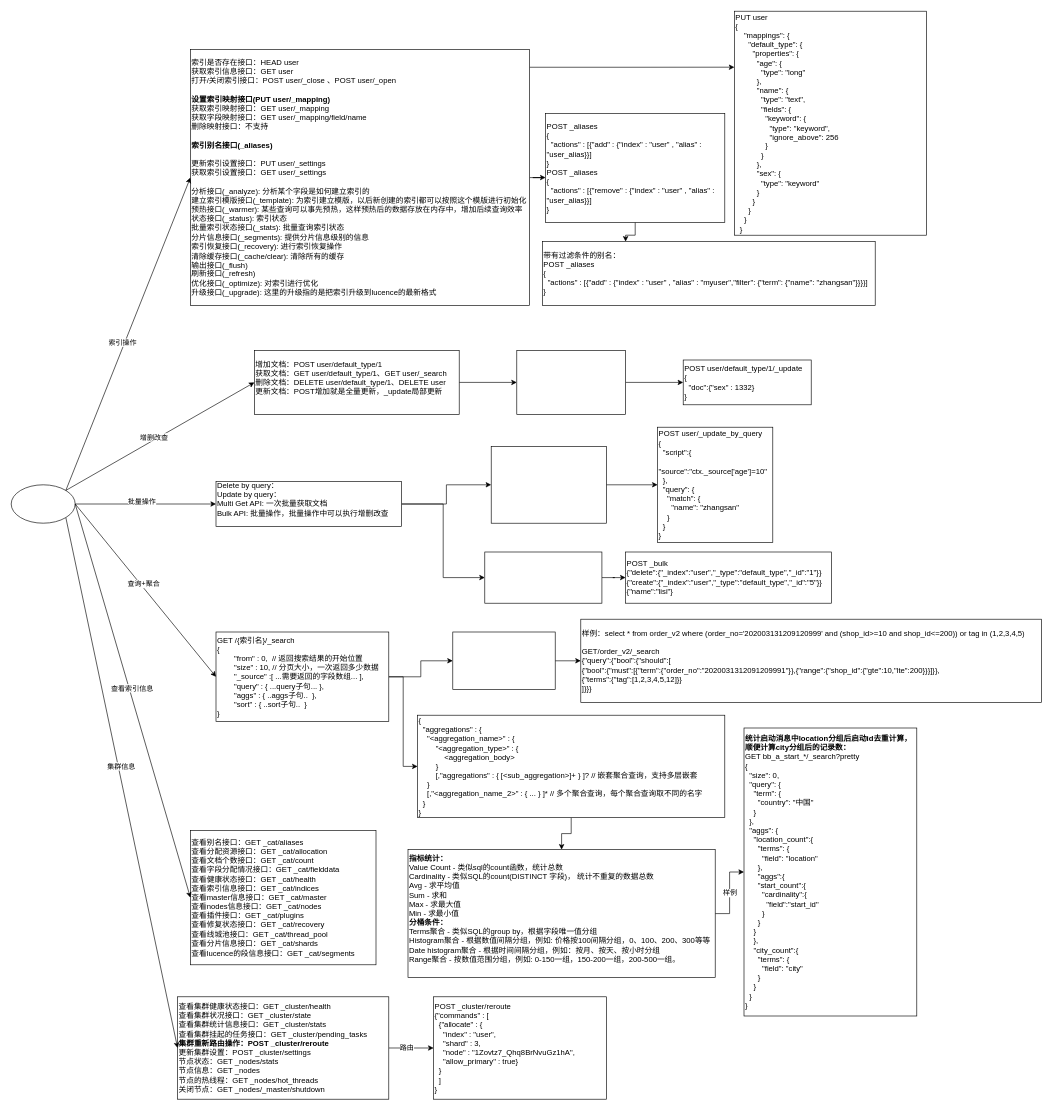
The diagram is 1053 pixels wide and 1110 high, and some of its shapes have lost their labels. Each missing label, with the box of its shape:
ES-API: (11, 484, 75, 523)
GET user/_mget { "docs":[{"_id":1},{"_id":2}] }: (484, 551, 602, 603)
match：分词查找 term：精确匹配 terms：精确匹配数组（in） rang：范围查询 bool：布尔条件 其他query: (452, 631, 555, 690)
POST user/_delete_by_query { "query": { "match": { "name": "zhangsan" } } }: (491, 446, 606, 523)
POST user/default_type/1 { "name":"zhangShang", "age" : 20, "sex" : 12 }: (516, 350, 626, 414)
